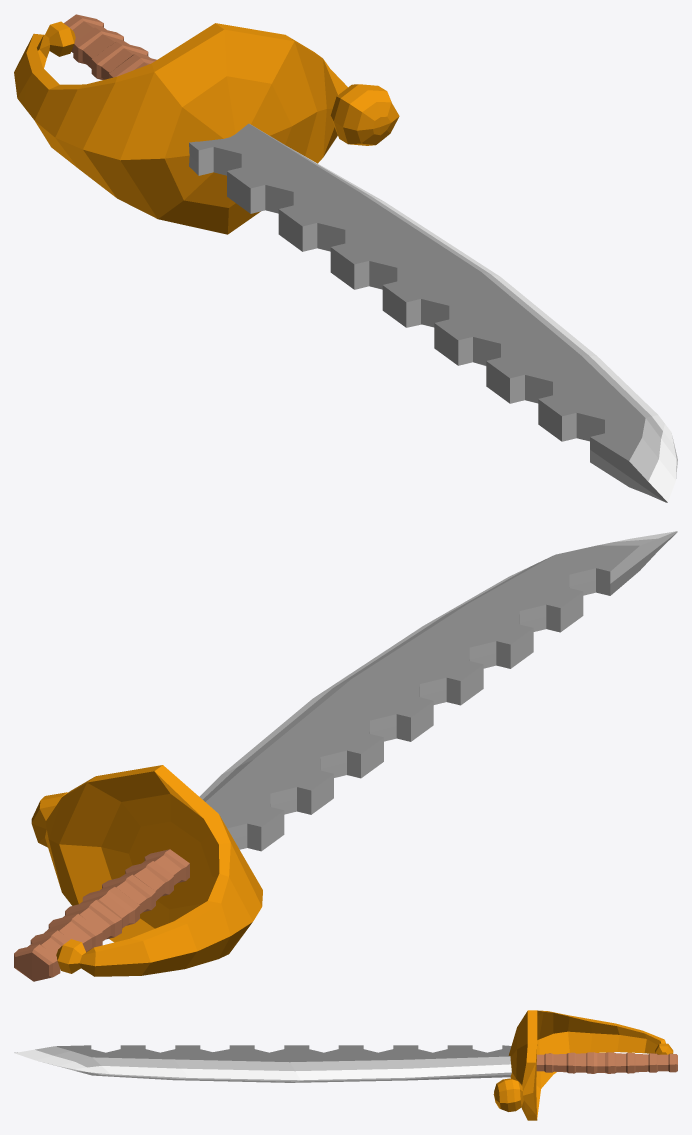
The model's file is 79_knife_2.fbx.
3 renders of one model, top to bottom at view 1: azimuth 30°, elevation 25°; view 2: azimuth 150°, elevation 25°; view 3: azimuth 270°, elevation 25°, orthographic. The views are drawn at different scales.
Visible parts, largest first — view 1: 79_knife_2; view 2: 79_knife_2; view 3: 79_knife_2.
Part boxes in pixels (<box>): 79_knife_2: <box>14,14,677,502</box>; 79_knife_2: <box>14,531,677,981</box>; 79_knife_2: <box>14,1010,677,1120</box>.
Size of the model in its own units: 68.36 by 47.6 by 265.
